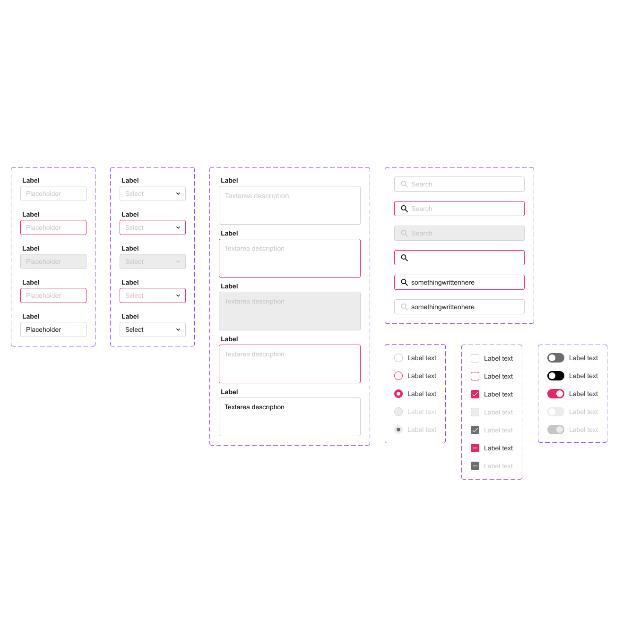QLabel: (407, 354, 438, 361), (406, 390, 438, 396), (568, 354, 600, 360), (568, 372, 600, 378), (483, 390, 515, 396), (568, 390, 600, 396), (568, 407, 600, 413), (406, 426, 438, 432), (482, 462, 514, 468), (407, 408, 438, 414), (407, 372, 437, 378), (484, 354, 514, 360), (484, 372, 514, 378), (484, 408, 514, 414), (484, 426, 514, 432), (484, 444, 514, 450), (569, 426, 599, 432), (22, 175, 40, 182), (220, 229, 240, 235), (220, 282, 240, 288), (120, 312, 140, 318), (121, 176, 139, 182), (221, 176, 239, 182), (22, 210, 40, 216), (22, 278, 40, 284), (220, 335, 238, 341), (220, 388, 238, 394), (121, 244, 139, 250), (121, 210, 139, 216), (22, 244, 40, 250), (121, 278, 139, 284), (22, 312, 40, 318)
VCheckbox: (470, 353, 480, 363), (470, 388, 480, 398), (470, 406, 480, 416), (470, 424, 480, 434), (470, 442, 480, 452), (470, 460, 480, 470), (470, 372, 480, 381)
VCombobox: (119, 218, 187, 234), (119, 287, 187, 303), (120, 185, 187, 201), (120, 320, 187, 336), (119, 254, 187, 268)
VRadio: (393, 352, 402, 362), (393, 370, 402, 380), (395, 406, 403, 416), (394, 424, 402, 434), (394, 389, 402, 397)
VSwitch: (548, 352, 564, 362), (548, 370, 564, 380), (548, 388, 564, 398), (548, 406, 564, 416), (548, 424, 564, 434)
VTextField: (393, 174, 525, 192), (393, 248, 525, 266), (394, 200, 526, 217), (394, 223, 526, 240), (393, 273, 525, 289), (394, 298, 524, 314), (19, 219, 86, 235), (19, 184, 86, 200), (21, 287, 88, 303), (21, 254, 88, 268), (20, 322, 86, 336)
VTextarea: (218, 184, 362, 224), (218, 237, 362, 277), (218, 396, 362, 436), (218, 290, 362, 330), (218, 343, 362, 383)
